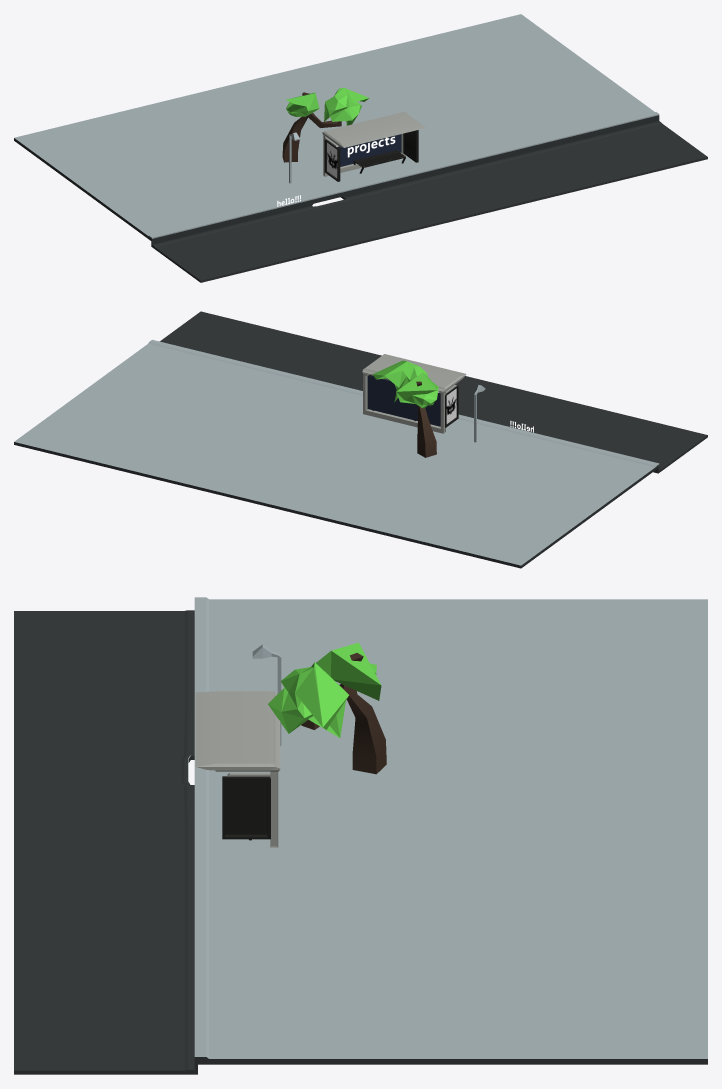
File: websitetest.glb
3 views of the same model, one above another, from view 1: azimuth 30°, elevation 25°; view 2: azimuth 150°, elevation 25°; view 3: azimuth 270°, elevation 25° (orthographic). The views are drawn at different scales.
Visible parts, largest first — view 1: Cube, Cube.001, Icosphere, Cube.002, Cube.004, Icosphere.001, Cube.003; view 2: Cube, Cube.001, Cube.002, Icosphere.001, Icosphere, Cube.004; view 3: Cube, Cube.001, Icosphere, Cube.004, Icosphere.001.
Part boxes in pixels (<box>): Cube: <box>14,14,707,282</box>; Cube.001: <box>322,112,425,181</box>; Icosphere: <box>324,88,369,125</box>; Cube.002: <box>338,134,401,166</box>; Cube.004: <box>282,92,341,162</box>; Icosphere.001: <box>286,92,319,116</box>; Cube.003: <box>353,150,405,173</box>; Cube: <box>14,311,707,568</box>; Cube.001: <box>362,354,466,433</box>; Cube.002: <box>367,375,440,426</box>; Icosphere.001: <box>396,372,438,408</box>; Icosphere: <box>372,360,428,402</box>; Cube.004: <box>416,381,436,457</box>; Cube: <box>14,597,707,1074</box>; Cube.001: <box>195,691,280,847</box>; Icosphere: <box>268,662,348,737</box>; Cube.004: <box>301,653,386,774</box>; Icosphere.001: <box>316,642,381,700</box>.
Size of the model in its own units: 83.66 by 12.88 by 53.37.
3 materials, 3 textured.
